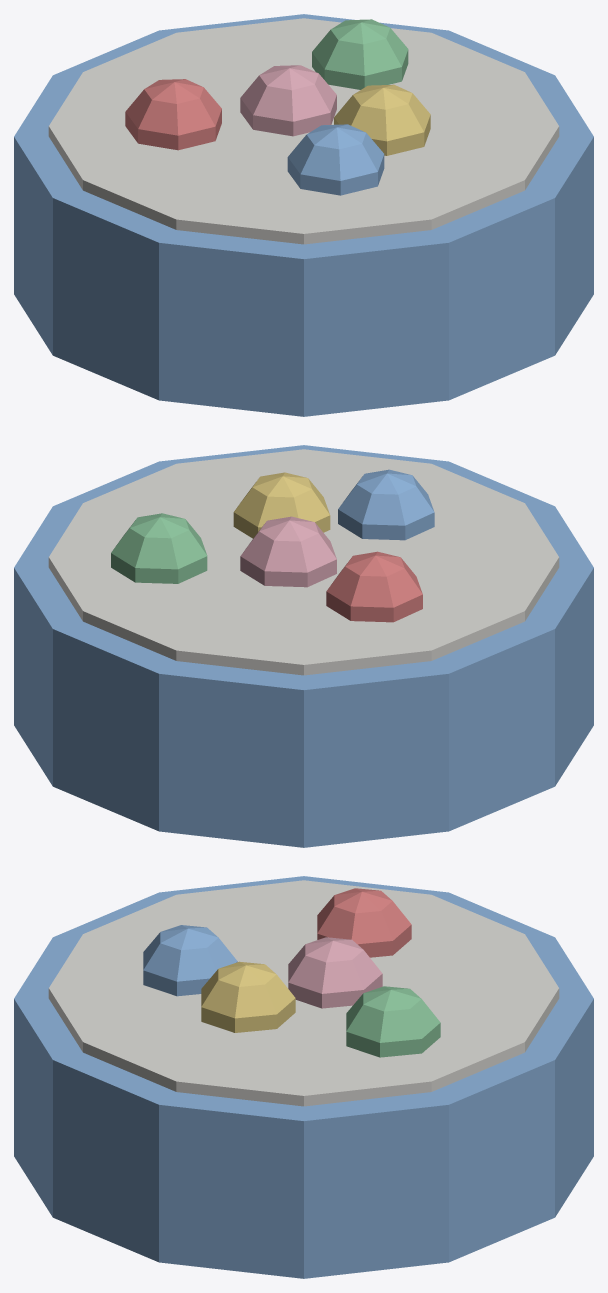
File: kid_piscina_bolinhas.glb
3 renders of one model, top to bottom at view 1: azimuth 30°, elevation 25°; view 2: azimuth 150°, elevation 25°; view 3: azimuth 270°, elevation 25°, orthographic.
Parts seen in each view (by area): view 1: KID_PISCINA_BOLINHAS_v01; view 2: KID_PISCINA_BOLINHAS_v01; view 3: KID_PISCINA_BOLINHAS_v01.
Part boxes in pixels (x1=…): KID_PISCINA_BOLINHAS_v01: x1=14, y1=14, x2=593, y2=416; KID_PISCINA_BOLINHAS_v01: x1=14, y1=445, x2=593, y2=847; KID_PISCINA_BOLINHAS_v01: x1=14, y1=876, x2=593, y2=1278.
Bounding box in the file's own units: 1 × 0.41 × 1.
